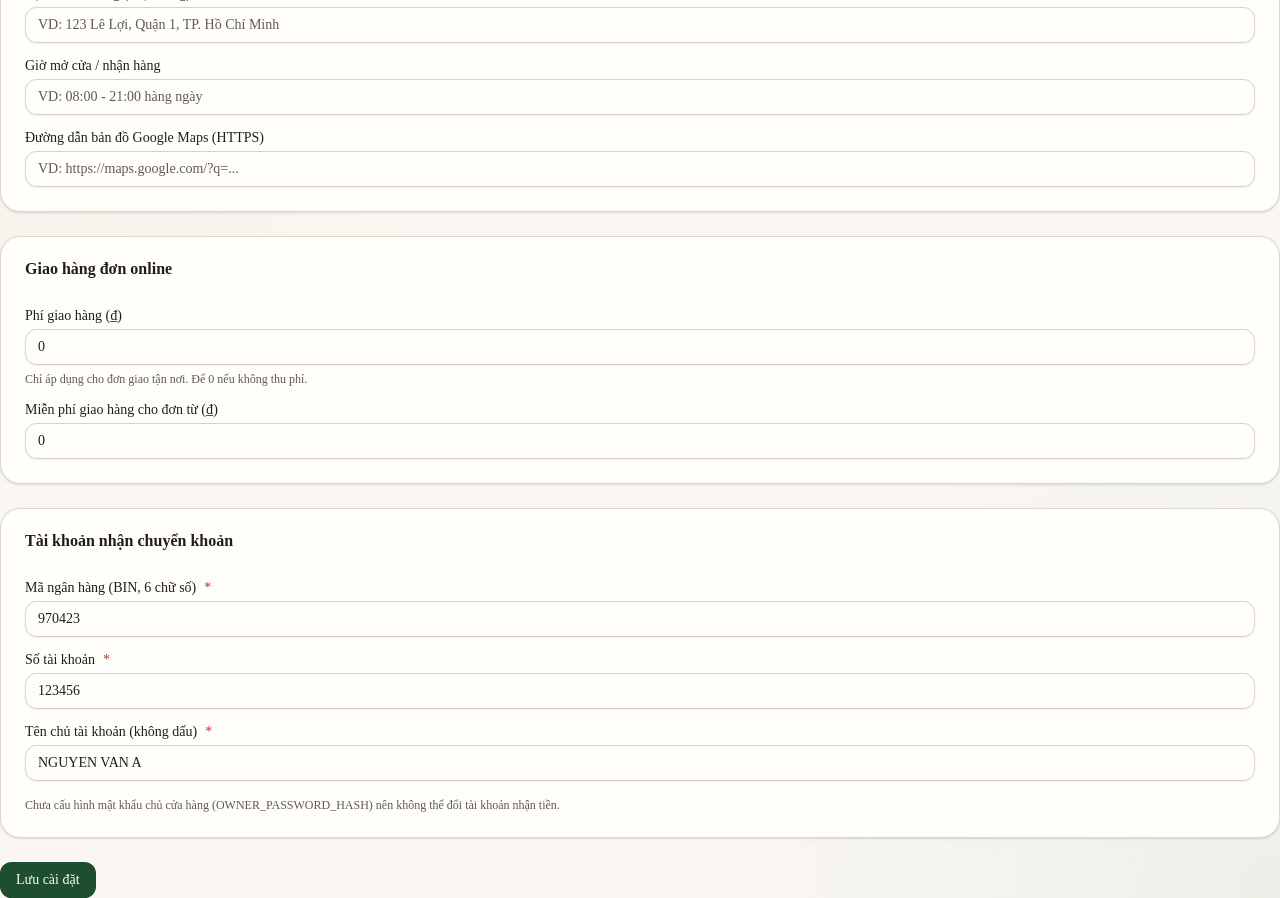
Thông báo sau khi lưu › cài đặt hiển thị toast khi ok=true, kể cả lưu lại cùng kết quả
(page scrolled)
What coordinates should you click on to do the following:
click the button "Lưu cài đặt"
I would click on:
 (48, 880)
Its box is [0,862,96,897].
(page scrolled)
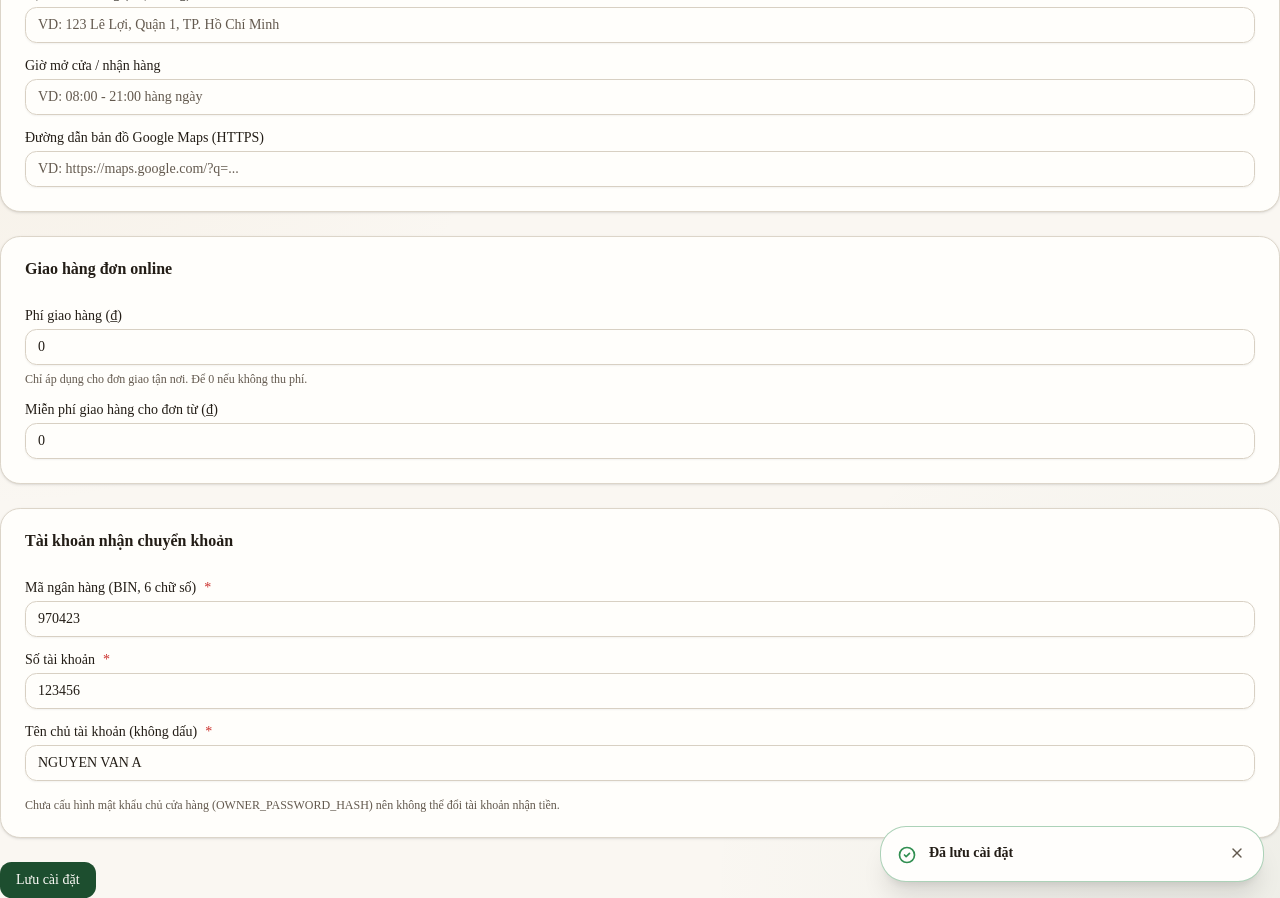
What coordinates should you click on to do the following:
click the button "Lưu cài đặt"
I would click on:
 (48, 880)
Its box is [0,862,96,897].
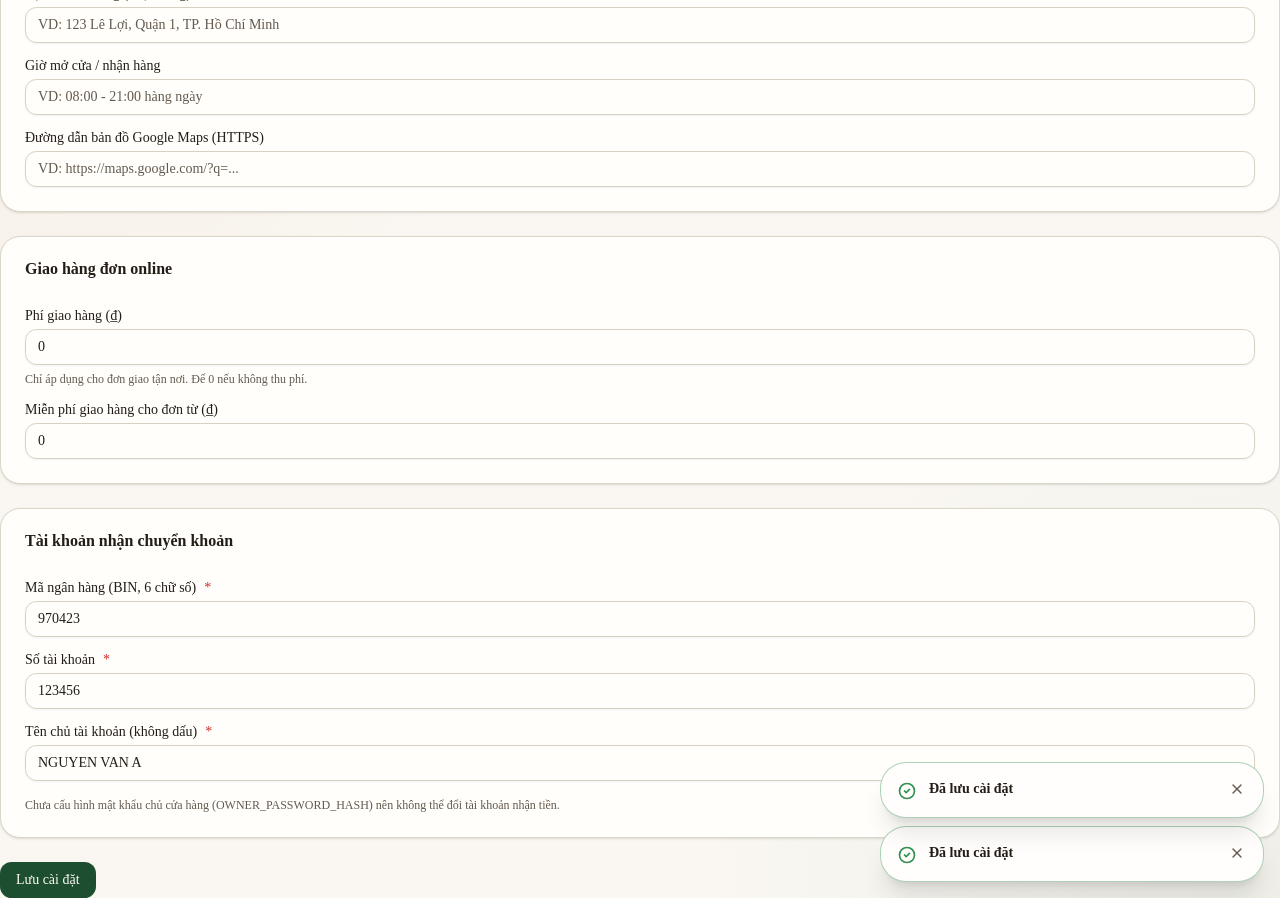
Check: the number of dialogs is 2, box [880,826,1264,882]; [880,762,1264,818]
